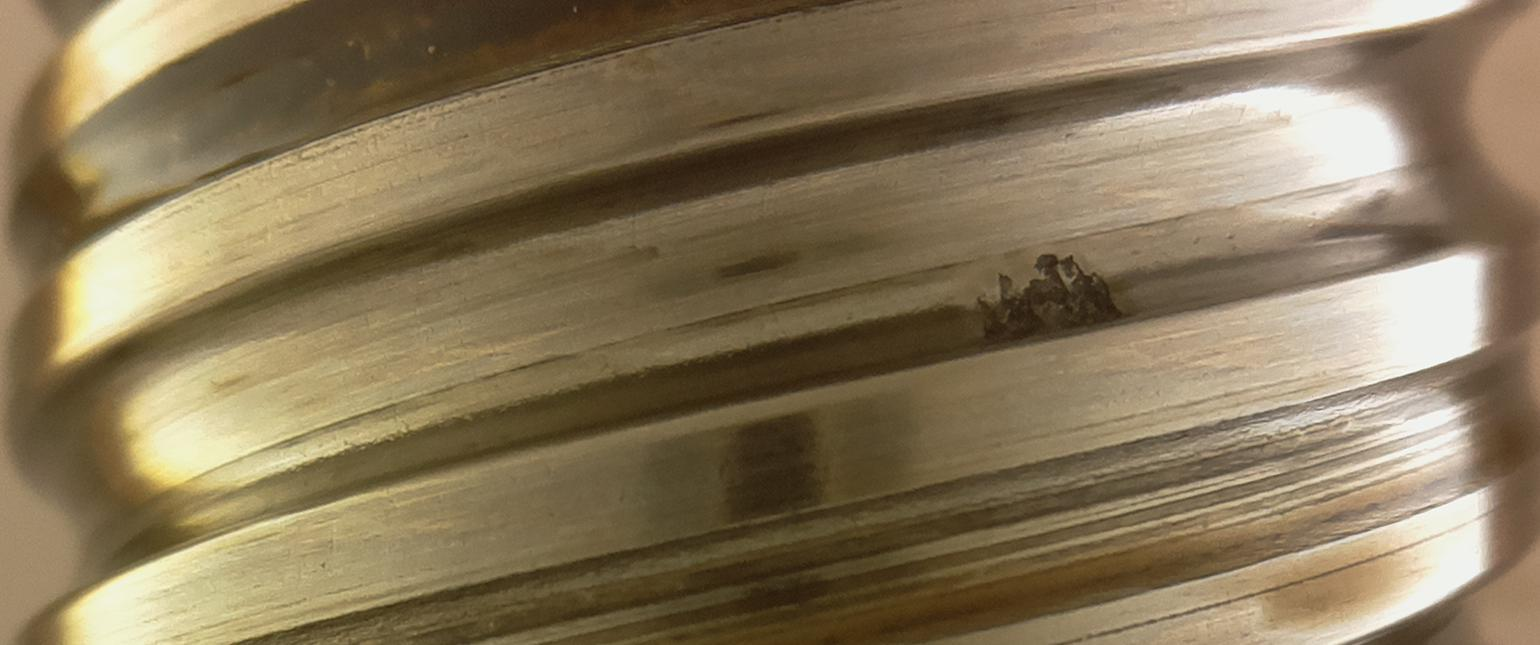pitting: (976, 253, 1120, 346)
